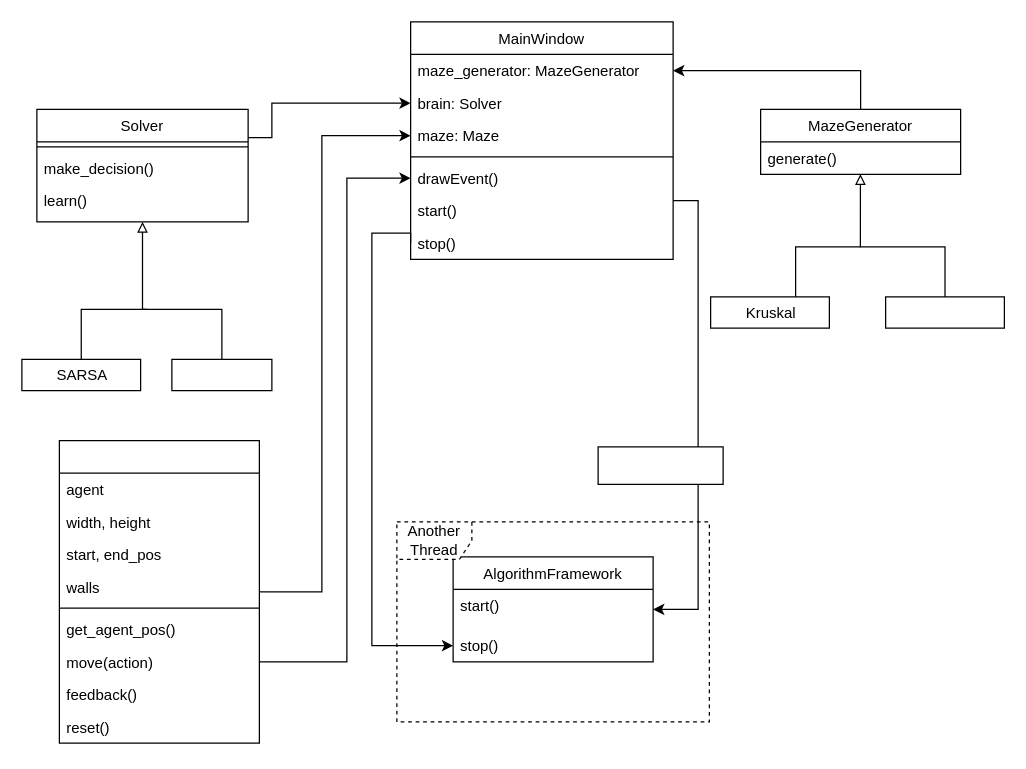
Some shapes in this 1026 by 769 pixel diagram are drawn without their labels. The box of each missing label's shape, as (x1, y1, x2, y2) in pixels:
Maze: (58, 439, 259, 743)
maze, brain: (597, 446, 723, 484)
Q Learning: (171, 358, 272, 391)
RecursiveWalk: (884, 296, 1004, 328)
